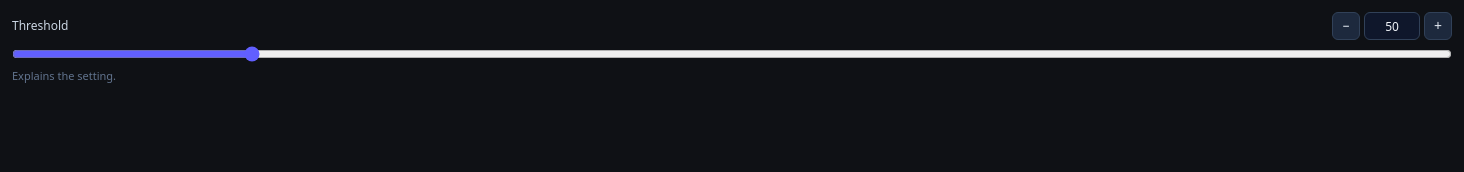
Scenario: NumberSliderField › does not clamp a partial entry while typing (a minimum above the first digit does not fight the user)
This screenshot has width=1464, height=172.
Click the field labelled "Threshold" at (1392, 26), box [1364, 12, 1420, 40]
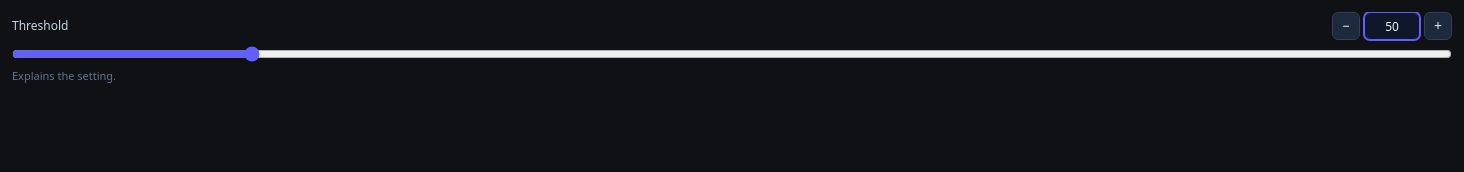
Type keys "2"
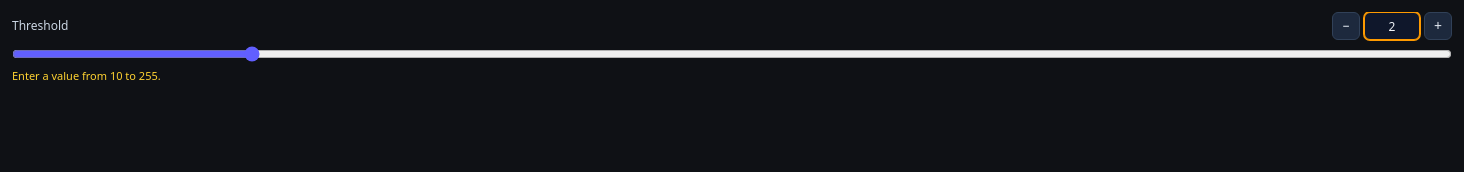
Now the field labelled "Threshold" holds "2", box [1364, 12, 1420, 40]
Type keys "00"
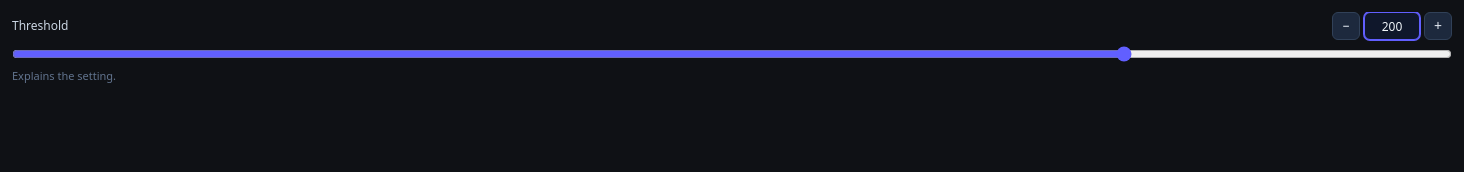
Now the field labelled "Threshold" holds "200", box [1364, 12, 1420, 40]
Now the slider named "Threshold slider" holds "200", box [12, 46, 1452, 62]
